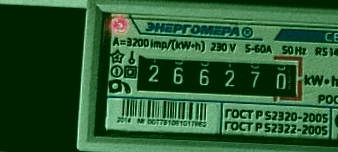0: (273, 71, 288, 91)
2: (146, 63, 160, 84), (223, 68, 237, 89)
6: (197, 67, 211, 87), (171, 65, 184, 86)
7: (249, 69, 260, 89)
screen: (124, 45, 310, 108)
